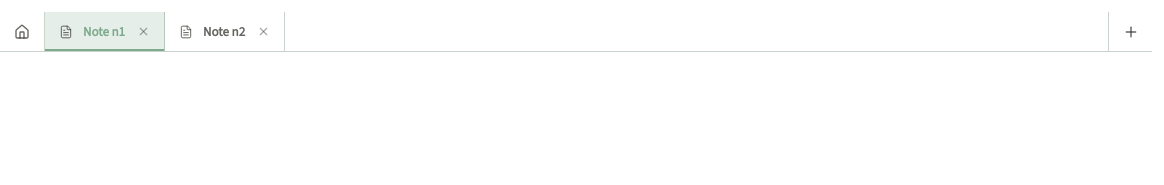
TabBar — close button syncs activeNote (Bug fix) › fireEvent.contextMenu on a note tab renders both menu items ('tabs.close_others' & 'tabs.close_all')
Right-click the element showing "Note n1" at (105, 32), box [45,12,165,51]
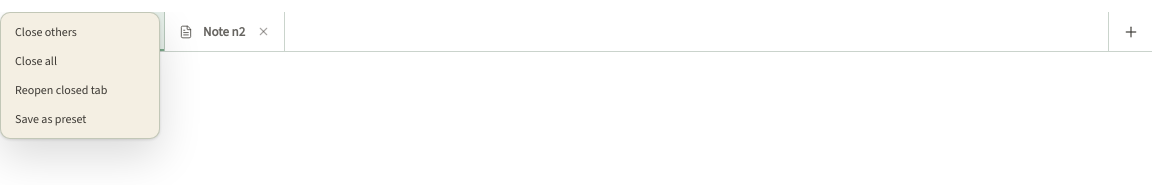
Expected: the text "Close others" is shown, [15,24,77,40]
Expected: the text "Close all" is shown, [15,53,57,69]
